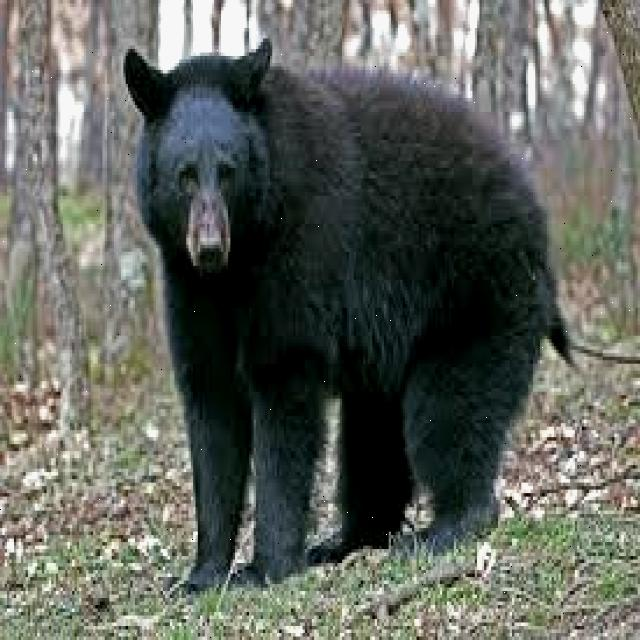bear: (121, 25, 549, 514)
